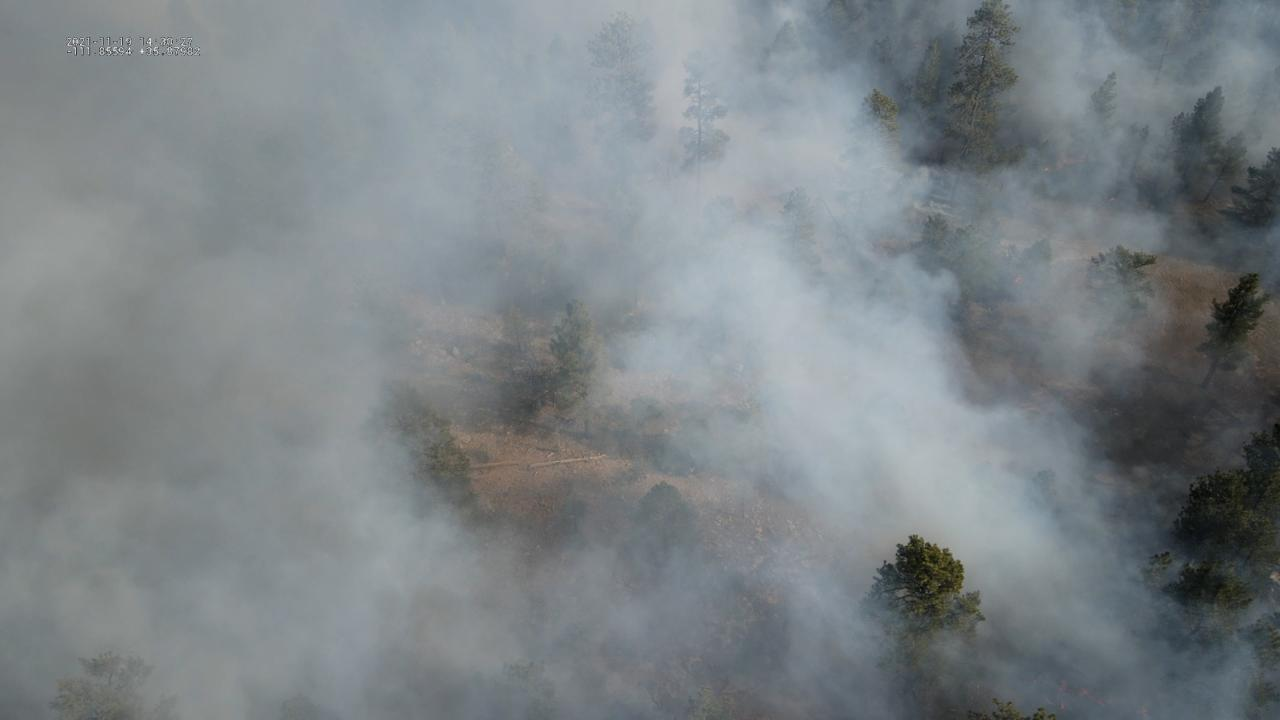fire: (1013, 275, 1023, 284), (1042, 166, 1050, 173)
smoke: (0, 0, 1280, 720)
